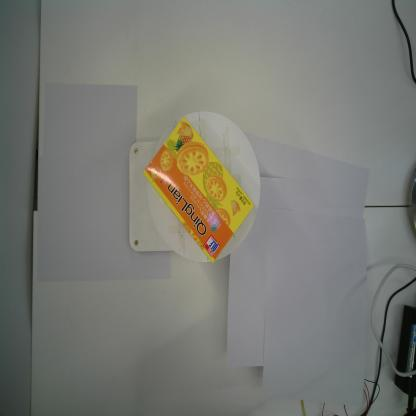Dessert: (142, 116, 256, 265)
